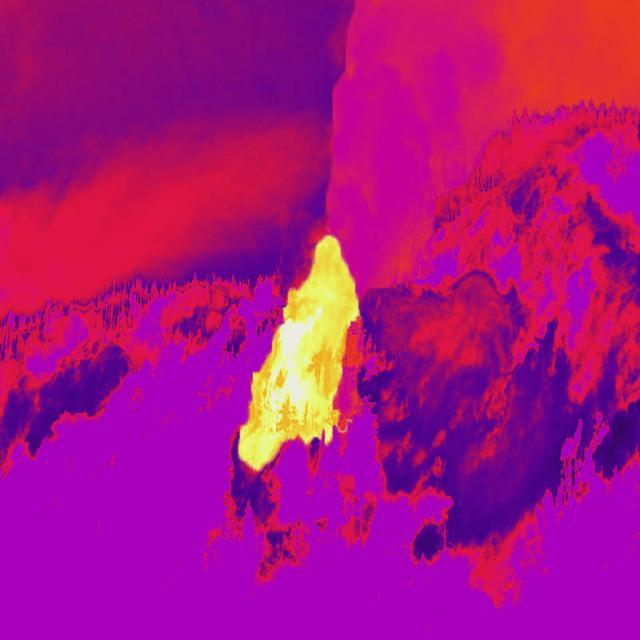fire: (238, 233, 363, 478)
